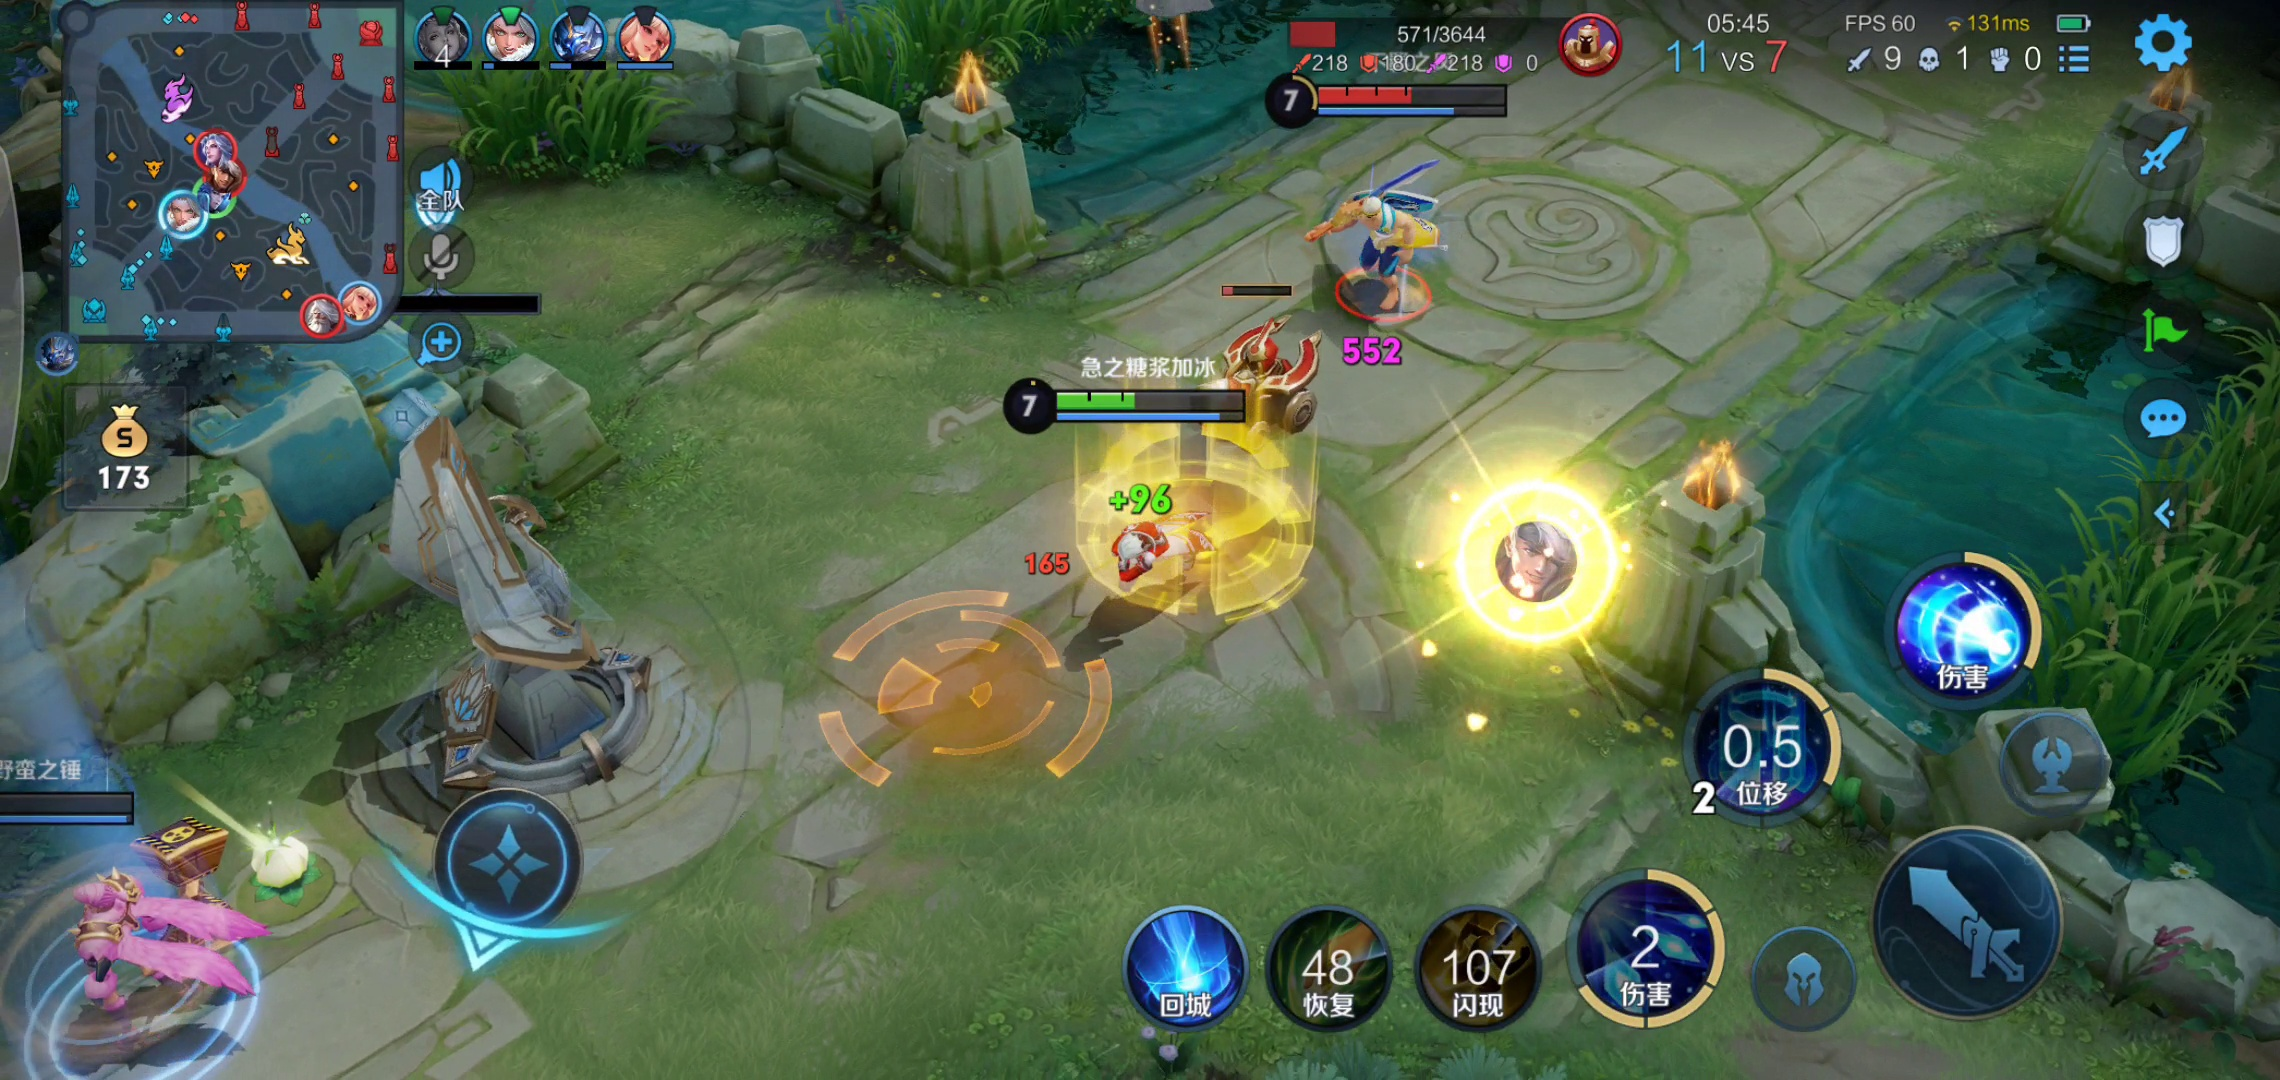grass: (1991, 343, 2280, 782), (797, 1, 1109, 109), (449, 45, 666, 198)
hero: (28, 845, 313, 1031), (1077, 464, 1253, 634), (1307, 189, 1495, 315)
soldier: (1181, 334, 1339, 440)
tower: (345, 401, 686, 829)
